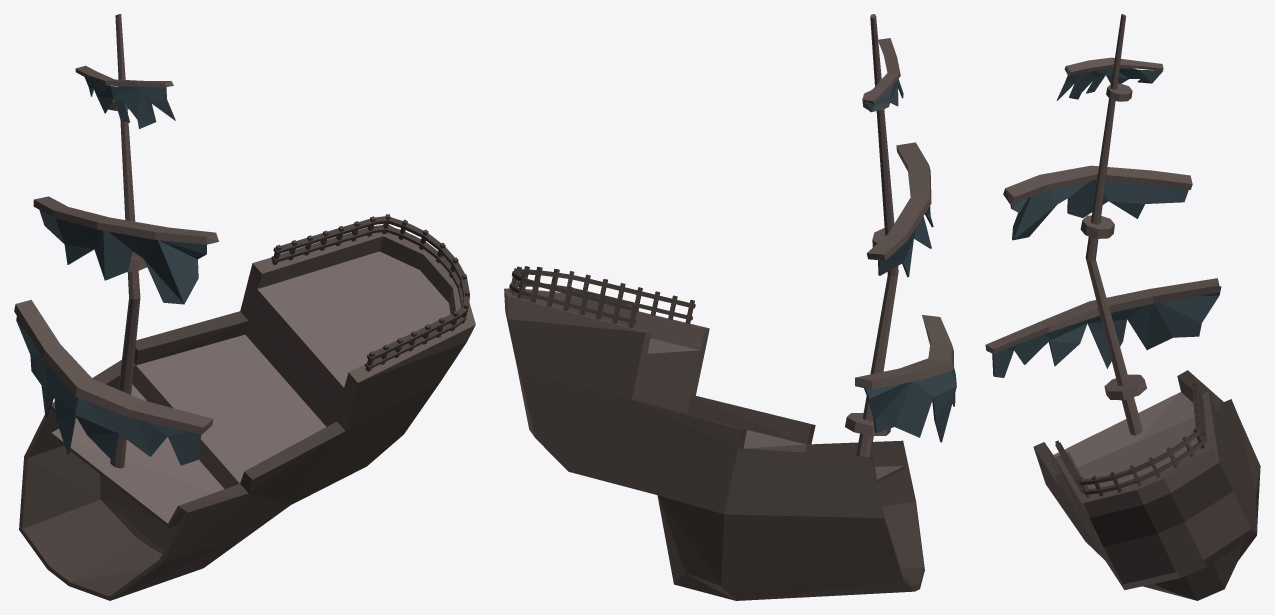
Rendered from Ship_022.glb.
The picture shows the model from 3 angles, left to right: view 1: azimuth 30°, elevation 25°; view 2: azimuth 150°, elevation 25°; view 3: azimuth 270°, elevation 25°; orthographic projection. The views are drawn at different scales.
Visible parts, largest first — view 1: Ship_022; view 2: Ship_022; view 3: Ship_022.
Boxes of the visible parts, bbox=[...] form: Ship_022: bbox=[14, 14, 475, 600]; Ship_022: bbox=[504, 14, 956, 600]; Ship_022: bbox=[985, 14, 1260, 600].
Bounding box in the file's own units: 9.21 × 12.36 × 5.82.
1 material, 1 textured.
